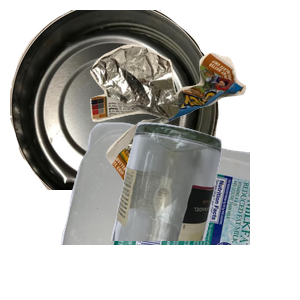glass: (109, 120, 300, 300)
metal: (10, 10, 221, 190)
plastic: (58, 120, 298, 300)
trash: (88, 42, 300, 219)
